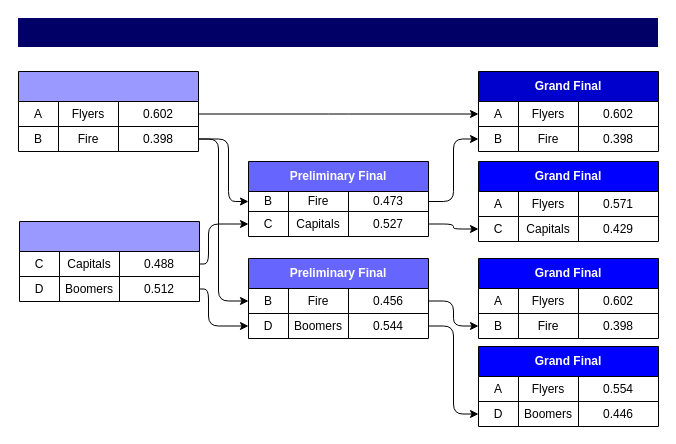
This 676x444 diagram has some shape labels left out. The shapes that lost their labels are listed below. From the top down, each one's box as (x1, y1, x2, y2) in pixels, then its label:
(16, 16, 658, 48): WNBL2020 - Scenario A: Flyers win through to Grand Final, Fire get second chance
(18, 70, 198, 152): Semi Final 1
(18, 220, 200, 302): Semi Final 2
